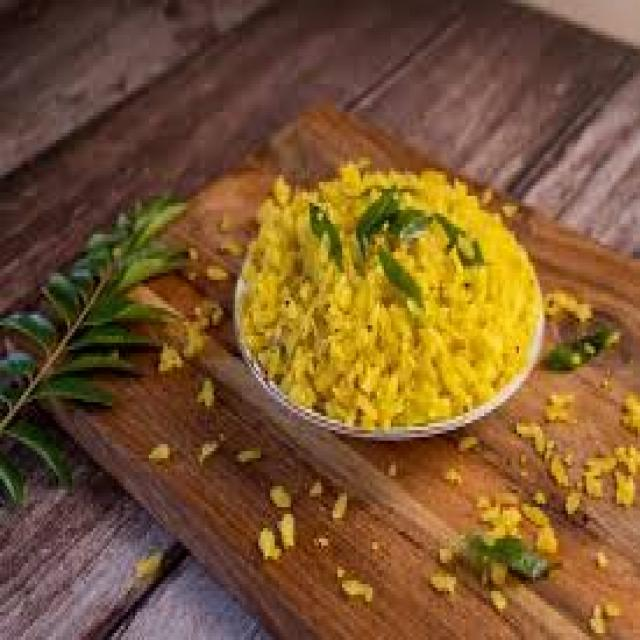POHA: (237, 157, 542, 434)
